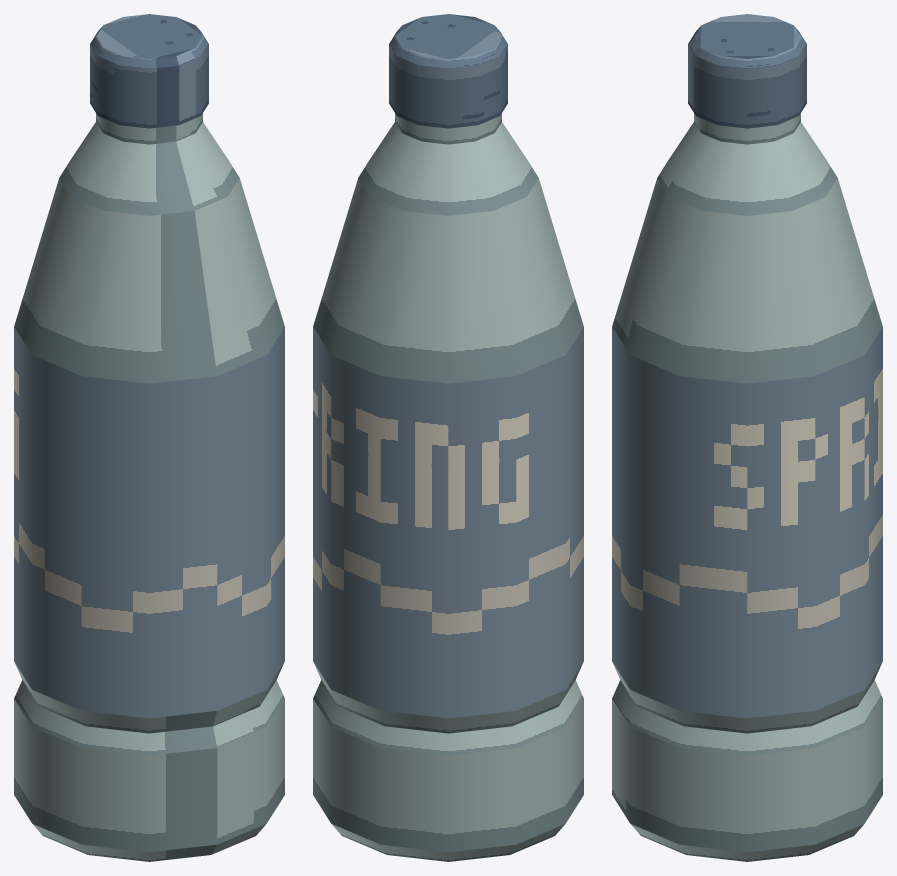
File: INV_WaterBottle.glb
3 views of the same model, side by side, from view 1: azimuth 30°, elevation 25°; view 2: azimuth 150°, elevation 25°; view 3: azimuth 270°, elevation 25° (orthographic).
Visible parts, largest first — view 1: INV_WaterBottle_Mesh; view 2: INV_WaterBottle_Mesh; view 3: INV_WaterBottle_Mesh.
Part boxes in pixels (x1=…): INV_WaterBottle_Mesh: x1=14, y1=14, x2=284, y2=861; INV_WaterBottle_Mesh: x1=313, y1=14, x2=583, y2=861; INV_WaterBottle_Mesh: x1=612, y1=14, x2=882, y2=861.
Size of what is drawn, in the model's own units: 0.066 by 0.208 by 0.066.
Materials: 1 (1 with a texture image).
